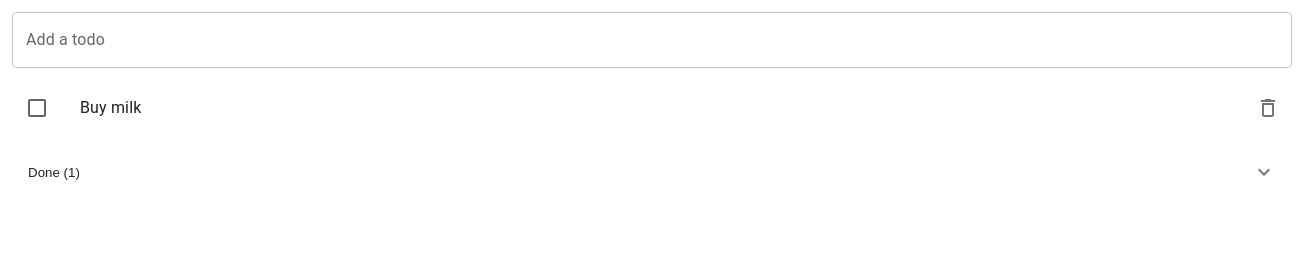
Test: un-checking a done todo moves it back out of Done right away and saves it as not done
Click the button "Done (1)" at (48, 172), box [12, 148, 1292, 196]
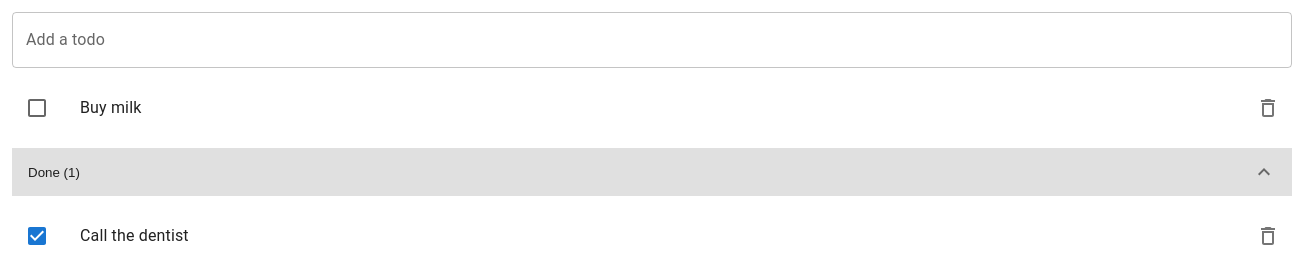
Click the checkbox labelled "Call the dentist" at (37, 236), box [25, 224, 49, 248]
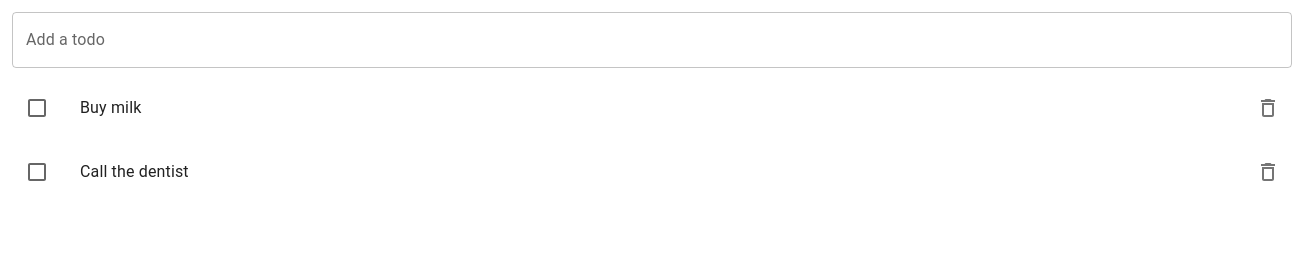
Now the checkbox labelled "Call the dentist" is not checked, box [25, 160, 49, 184]
Now the button "Done" is gone
